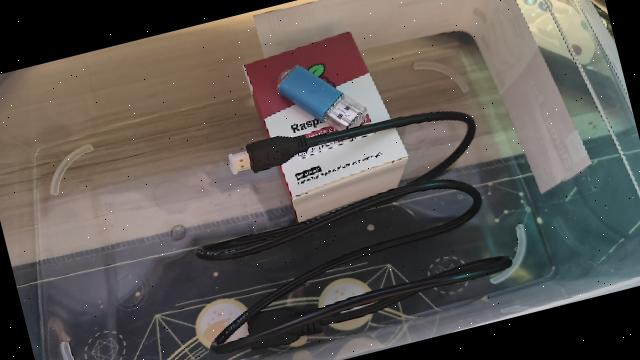charger_box: (239, 23, 419, 228)
hdmi_cable: (162, 87, 519, 360)
sdcard_reader: (271, 49, 373, 145)
